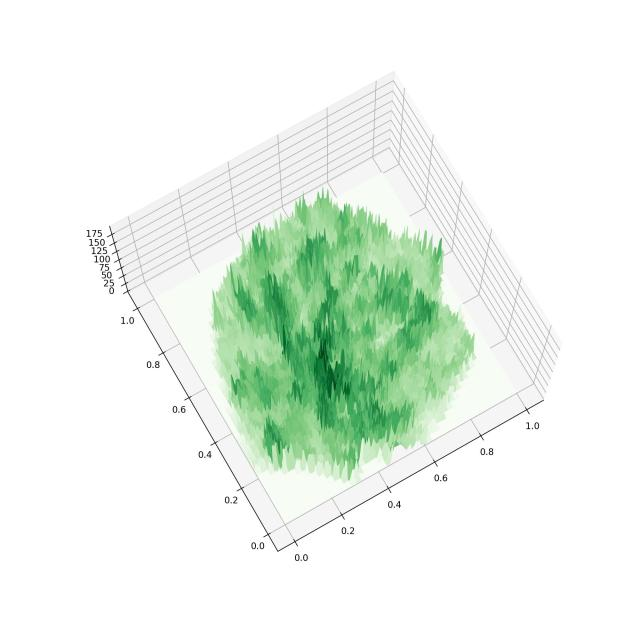spruce: (60, 57, 591, 579)
